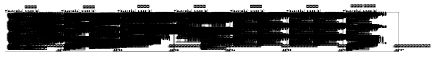corridor: (217, 44, 220, 53), (155, 28, 158, 37), (378, 11, 380, 21), (191, 23, 193, 32), (191, 44, 193, 53), (66, 30, 68, 39), (66, 11, 68, 20), (94, 44, 96, 53)
room: (127, 23, 153, 39), (3, 38, 28, 54), (3, 4, 28, 20), (153, 40, 179, 55), (127, 40, 153, 55), (127, 7, 153, 22), (251, 25, 277, 40), (313, 25, 339, 40), (278, 25, 304, 40), (340, 25, 366, 40), (376, 23, 402, 38), (92, 19, 116, 35), (216, 4, 241, 19), (30, 38, 53, 54), (376, 41, 402, 55), (313, 10, 339, 24), (251, 41, 277, 55), (313, 41, 339, 55), (340, 41, 366, 55), (251, 10, 277, 24), (278, 10, 304, 24), (340, 10, 366, 24), (278, 41, 304, 55), (216, 20, 241, 34), (92, 5, 116, 18), (65, 42, 88, 55), (32, 12, 42, 35), (4, 26, 20, 36), (193, 15, 202, 32), (193, 36, 202, 53), (380, 4, 389, 21), (158, 20, 166, 37), (220, 36, 228, 53), (96, 37, 104, 53), (68, 4, 76, 20), (68, 24, 76, 39), (20, 26, 28, 36), (217, 36, 220, 44), (155, 20, 158, 28), (191, 36, 193, 44), (191, 15, 193, 23), (378, 4, 380, 11), (66, 4, 68, 11), (94, 37, 96, 44), (180, 7, 186, 9), (242, 7, 248, 9), (304, 7, 310, 9), (366, 7, 372, 9), (428, 7, 434, 9), (118, 7, 124, 9), (55, 7, 61, 9), (66, 24, 68, 30), (10, 30, 12, 32), (10, 13, 12, 15), (133, 44, 135, 45), (133, 11, 135, 12), (10, 47, 12, 48), (37, 47, 39, 48), (36, 27, 37, 29), (36, 24, 38, 25), (34, 30, 36, 31), (195, 44, 197, 45), (222, 44, 224, 45), (98, 26, 99, 28), (381, 16, 383, 17), (160, 44, 161, 45), (160, 28, 161, 28), (195, 23, 197, 23), (8, 46, 9, 46), (8, 50, 9, 50), (8, 29, 9, 29), (8, 33, 9, 33), (8, 12, 9, 12), (8, 16, 9, 16), (35, 46, 36, 46), (35, 50, 36, 50), (133, 28, 135, 28), (382, 11, 383, 11)
wall: (18, 44, 24, 51), (18, 27, 24, 34), (18, 10, 24, 17), (181, 1, 186, 2), (243, 1, 248, 2), (305, 1, 310, 2), (367, 1, 372, 2), (119, 1, 124, 2), (430, 1, 434, 2), (57, 1, 61, 2), (69, 51, 71, 52), (69, 35, 71, 36), (98, 23, 100, 24), (44, 47, 45, 48), (70, 46, 71, 47), (70, 30, 71, 31), (97, 12, 98, 13), (24, 48, 24, 48), (24, 31, 24, 32), (24, 14, 24, 15), (46, 47, 46, 48), (38, 24, 38, 28), (70, 11, 71, 11), (69, 16, 71, 16), (97, 44, 99, 44), (97, 49, 98, 49), (96, 29, 98, 29), (100, 23, 100, 27), (97, 7, 99, 7)
